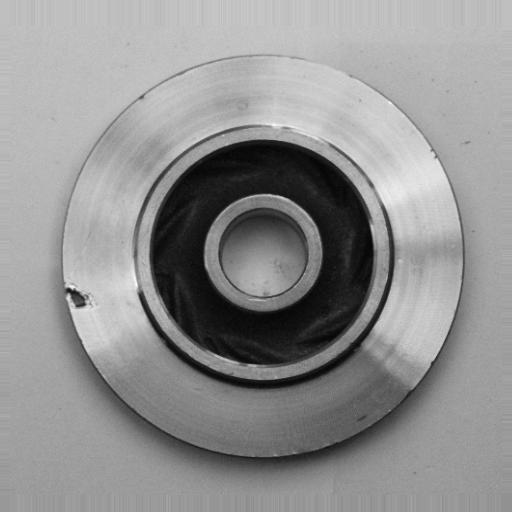crack: (49, 276, 109, 326)
scratch: (260, 111, 343, 148)
unpolished_casting: (60, 51, 465, 460)
